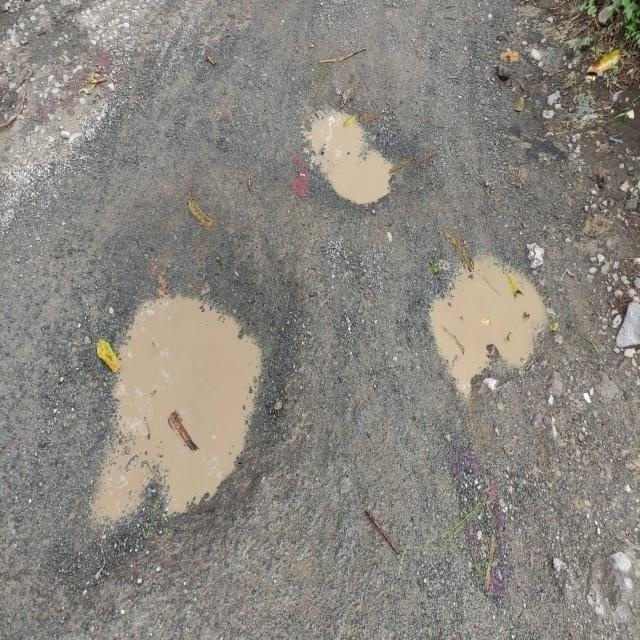pothole: (72, 249, 291, 557), (430, 256, 570, 404), (302, 98, 412, 220)
